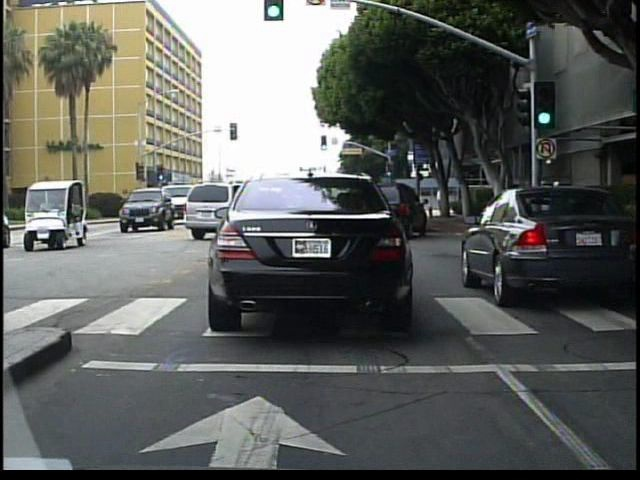person: (524, 174, 545, 229), (435, 185, 449, 215)
